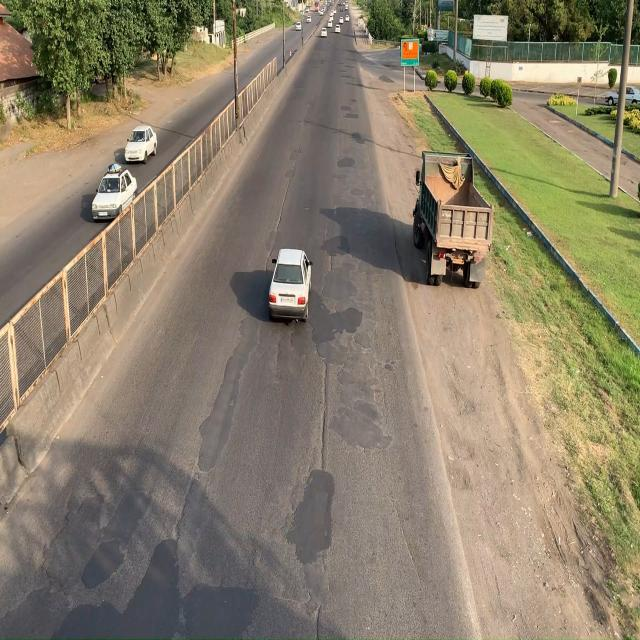Truck: (411, 150, 494, 290)
cars: (270, 249, 312, 317), (92, 172, 138, 218), (125, 125, 157, 163)
